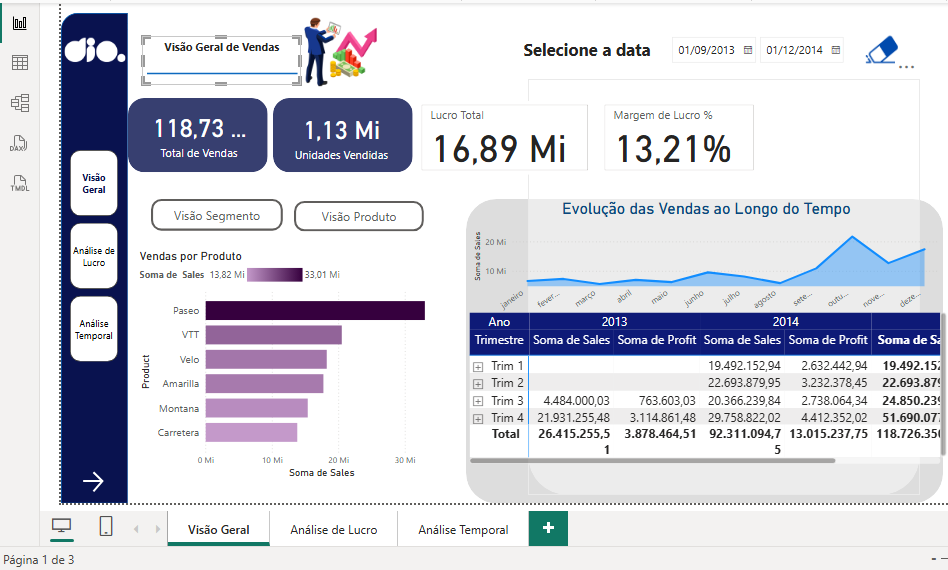

What the dashboard file says about the page in this screenshot:
{"tool":"powerbi","page":{"name":"Visão Geral","canvas":[1280,720],"ordinal":0},"visuals":[{"type":"group","id":"g1","title":"Layout","box":[0,-0.5,511.4,720],"z":0},{"type":"shape","box":[0,13.4,96.4,706.2],"z":0,"group":"g1"},{"type":"slicer","fields":{"Values":["financials.Date"]},"box":[867.2,38.7,272.2,55],"z":0,"group":"g3"},{"type":"shape","box":[123.8,84.5,217.2,33],"z":0,"group":"g4"},{"type":"shape","box":[96.5,137.7,201.4,106.8],"z":0,"group":"g2"},{"type":"areaChart","title":"Evolução das Vendas ao Longo do Tempo","fields":{"Category":["financials.Date.Variation.Hierarquia de datas.Ano","financials.Date.Variation.Hierarquia de datas.Mês"],"Y":["Sum(financials. Sales)"]},"box":[589.2,282.6,680.3,189.8],"z":0,"group":"g6"},{"type":"image","title":"logo_dio","box":[0,35.7,98.2,63.2],"z":1000,"group":"g1"},{"type":"textbox","box":[120.4,43.1,215.2,48.5],"z":1000,"group":"g4"},{"type":"textbox","box":[661.6,44.7,199.6,45.6],"z":1000,"group":"g3"},{"type":"shape","box":[305.2,137.7,201.4,106.8],"z":1000,"group":"g2"},{"type":"clusteredBarChart","title":"Vendas por Produto","fields":{"Y":["Sum(financials. Sales)"],"Category":["financials.Product"]},"box":[108.6,354.1,455,334.9],"z":1000,"group":"g5"},{"type":"actionButton","title":"Botão - Next","box":[25.9,669,48.8,39.6],"z":1000},{"type":"image","box":[322.6,-0.5,188.8,141.2],"z":2000,"group":"g1"},{"type":"actionButton","box":[1153.4,43.3,59.9,51.3],"z":2000,"group":"g3"},{"type":"group","id":"g2","title":"Cartões","box":[96.5,131.3,410.1,113.2],"z":2000},{"type":"card","fields":{"Values":["Sum(financials. Sales)"]},"box":[123.2,131.3,149.8,112.3],"z":2000,"group":"g2"},{"type":"actionButton","title":"B-Segmento","box":[130.1,282.2,189.8,45.6],"z":2000,"group":"g5"},{"type":"group","id":"g3","title":"Filtro por data","box":[661.6,38.7,551.5,55],"z":3000},{"type":"image","title":"clean","box":[1153.4,39,59.9,55.6],"z":3000,"group":"g3"},{"type":"card","fields":{"Values":["Sum(financials.Units Sold)"]},"box":[325.1,140.9,156.5,98.6],"z":3000,"group":"g2"},{"type":"actionButton","title":"B-Produto","box":[336.1,284.7,187,43.6],"z":3000,"group":"g5"},{"type":"shape","box":[582.9,282.2,687,438.4],"z":4000},{"type":"group","id":"g4","title":"Title report","box":[120.4,43.1,221.5,74.3],"z":5000},{"type":"group","id":"g5","title":"Grupo 1","box":[103.7,282.2,459.4,419],"z":6000},{"type":"shape","box":[672.5,109.4,564.5,599],"z":7000},{"type":"group","id":"g6","title":"Perspectiva temporal das vendas","box":[589.2,282.6,680.3,189.8],"z":8000},{"type":"pivotTable","fields":{"Values":["Sum(financials. Sales)","Sum(financials.Profit)"],"Columns":["financials.Date.Variation.Hierarquia de datas.Ano"],"Rows":["financials.Date.Variation.Hierarquia de datas.Trimestre","financials.Date.Variation.Hierarquia de datas.Mês"]},"box":[582.9,440.1,697.1,228.5],"z":9000},{"type":"pageNavigator","box":[13.4,211.1,69.9,306.2],"z":10000},{"type":"cardVisual","fields":{"Data":["financials.Lucro Total"]},"box":[514,141.1,250.3,105.8],"z":11000},{"type":"cardVisual","fields":{"Data":["financials.Margem de Lucro %"]},"box":[777.7,141.1,225.1,105.8],"z":12000}]}

Visuals, with their boxes on the page's 1280x720 design canvas (x1, y1, x2, y2). These are canvas units, not pixel positions in the 948x570 screenshot, which may show the page scaled, cropped or inside an application window:
"Layout" group: rect(0, 0, 511, 720)
shape: rect(0, 13, 96, 720)
slicer - financials.Date: rect(867, 39, 1139, 94)
shape: rect(124, 84, 341, 118)
shape: rect(96, 138, 298, 244)
"Evolução das Vendas ao Longo do Tempo" areaChart: rect(589, 283, 1270, 472)
"logo_dio" image: rect(0, 36, 98, 99)
textbox: rect(120, 43, 336, 92)
textbox: rect(662, 45, 861, 90)
shape: rect(305, 138, 507, 244)
"Vendas por Produto" clusteredBarChart: rect(109, 354, 564, 689)
"Botão - Next" actionButton: rect(26, 669, 75, 709)
image: rect(323, 0, 511, 141)
actionButton: rect(1153, 43, 1213, 95)
"Cartões" group: rect(96, 131, 507, 244)
card - Sum(financials. Sales): rect(123, 131, 273, 244)
"B-Segmento" actionButton: rect(130, 282, 320, 328)
"Filtro por data" group: rect(662, 39, 1213, 94)
"clean" image: rect(1153, 39, 1213, 95)
card - Sum(financials.Units Sold): rect(325, 141, 482, 240)
"B-Produto" actionButton: rect(336, 285, 523, 328)
shape: rect(583, 282, 1270, 721)
"Title report" group: rect(120, 43, 342, 117)
"Grupo 1" group: rect(104, 282, 563, 701)
shape: rect(672, 109, 1237, 708)
"Perspectiva temporal das vendas" group: rect(589, 283, 1270, 472)
pivotTable - Sum(financials. Sales) x Sum(financials.Profit): rect(583, 440, 1280, 669)
pageNavigator: rect(13, 211, 83, 517)
cardVisual - financials.Lucro Total: rect(514, 141, 764, 247)
cardVisual - financials.Margem de Lucro %: rect(778, 141, 1003, 247)
